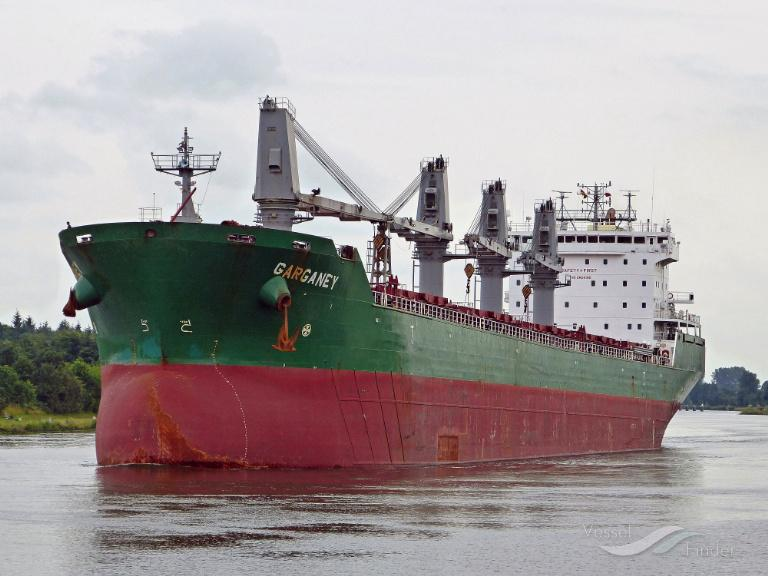OCR: (272, 258, 344, 290)
